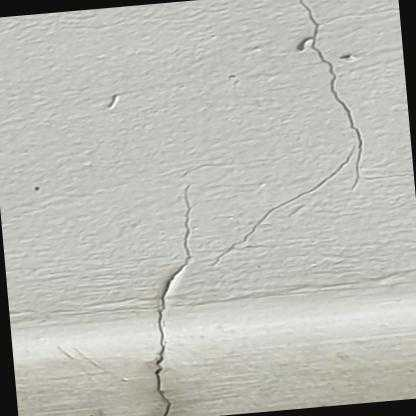crack: (215, 0, 365, 260), (149, 195, 195, 416)
